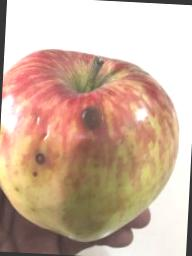Apple Unripe: (0, 44, 184, 256)
